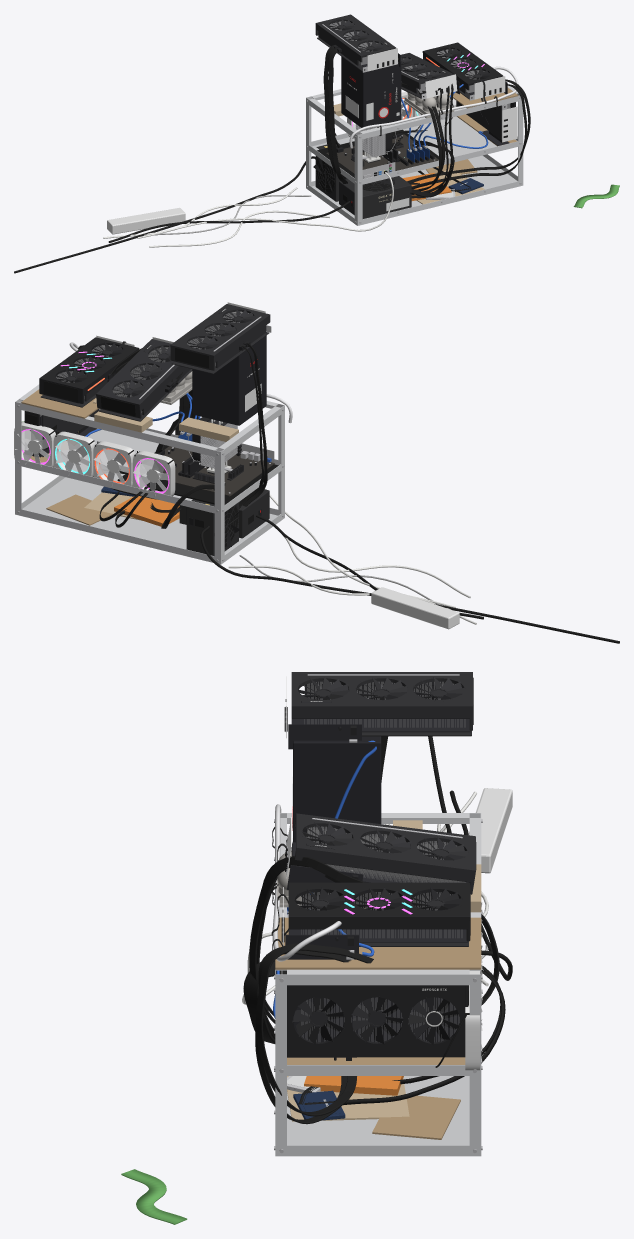
The model's file is rig_draco.glb.
The picture shows the model from 3 angles, top to bottom: view 1: azimuth 30°, elevation 25°; view 2: azimuth 150°, elevation 25°; view 3: azimuth 270°, elevation 25°; orthographic projection. The views are drawn at different scales.
Parts seen in each view (by area): view 1: Canon_Box, Sheet_middle, Eagle_Body, PowerStrip, Sheet_bottom, Rail_T_front, MB_PCB, Rail_B_front, Rail_M_front, AC_TR, GPU_C_Colorful_Shroud, GPU_A_Phantom_Shroud (+26 smaller); view 2: Canon_Box, Sheet_bottom, PowerStrip, Rail_T_back, MB_PCB, Rail_B_back, Rail_M_back, GPU_B_Phantom_Shroud, AC_TR, TR_Body, GPU_C_Colorful_Shroud, Post_BL (+31 smaller); view 3: Canon_Box, GPU_D_Zotac_Shroud, Sheet_bottom, Cardboard_topC, GPU_A_Phantom_Shroud, Rail_T_right, GPU_C_Colorful_Shroud, GPU_B_Phantom_Shroud, GPU_C_Colorful_Rim_bot, Cardboard_bottom2, GPU_B_Phantom_Rim_bot, PWR_EA_D2 (+30 smaller).
Boxes of the visible parts, x1,y1,x2,y2 form: Canon_Box: [341, 56, 401, 127]; Sheet_middle: [311, 116, 516, 158]; Eagle_Body: [339, 176, 411, 218]; PowerStrip: [107, 208, 185, 234]; Sheet_bottom: [311, 155, 517, 217]; Rail_T_front: [360, 96, 518, 139]; MB_PCB: [326, 134, 438, 173]; Rail_B_front: [362, 181, 518, 224]; Rail_M_front: [362, 141, 518, 184]; AC_TR: [14, 156, 315, 273]; GPU_C_Colorful_Shroud: [422, 42, 503, 85]; GPU_A_Phantom_Shroud: [315, 14, 396, 57]; Canon_Box: [192, 335, 266, 425]; Sheet_bottom: [22, 477, 277, 554]; PowerStrip: [371, 587, 459, 629]; Rail_T_back: [21, 403, 217, 456]; MB_PCB: [154, 446, 274, 496]; Rail_B_back: [21, 509, 214, 562]; Rail_M_back: [21, 459, 214, 513]; GPU_B_Phantom_Shroud: [96, 339, 178, 406]; AC_TR: [200, 526, 619, 643]; TR_Body: [186, 499, 238, 556]; GPU_C_Colorful_Shroud: [39, 337, 139, 391]; Post_BL: [214, 449, 224, 564]; Canon_Box: [293, 736, 381, 842]; GPU_D_Zotac_Shroud: [287, 985, 468, 1057]; Sheet_bottom: [287, 1076, 469, 1144]; Cardboard_topC: [275, 917, 481, 969]; GPU_A_Phantom_Shroud: [291, 672, 472, 709]; Rail_T_right: [287, 969, 469, 985]; GPU_C_Colorful_Shroud: [288, 883, 470, 920]; GPU_B_Phantom_Shroud: [296, 813, 475, 874]; GPU_C_Colorful_Rim_bot: [288, 915, 469, 929]; Cardboard_bottom2: [372, 1095, 460, 1139]; GPU_B_Phantom_Rim_bot: [294, 846, 475, 882]; PWR_EA_D2: [256, 943, 373, 1116].
Size of the model in its own units: 2.13 by 0.63 by 0.6648.
